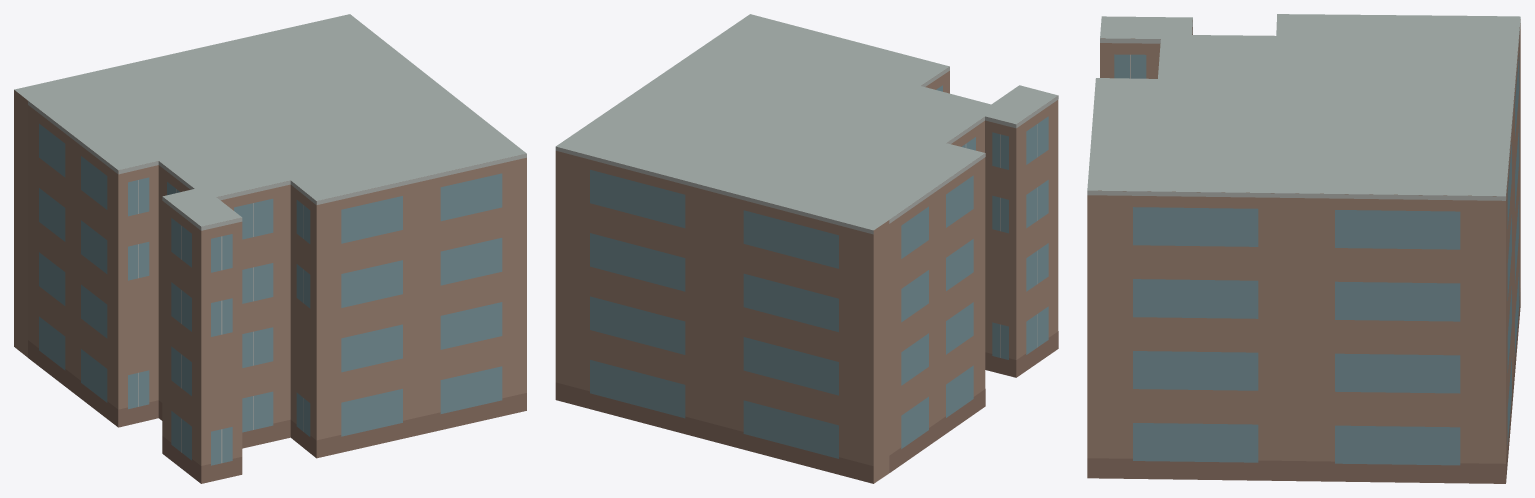
Rendered from survey-upis-32518489.glb.
3 renders of one model, left to right at view 1: azimuth 30°, elevation 25°; view 2: azimuth 150°, elevation 25°; view 3: azimuth 270°, elevation 25°, orthographic. The views are drawn at different scales.
Visible parts, largest first — view 1: survey-upis-32518489.tmp; view 2: survey-upis-32518489.tmp; view 3: survey-upis-32518489.tmp.
Part boxes in pixels (box(x1,y1,x2,y2)): survey-upis-32518489.tmp: box(14, 14, 526, 483); survey-upis-32518489.tmp: box(555, 14, 1058, 483); survey-upis-32518489.tmp: box(1087, 14, 1520, 483).
Bounding box in the file's own units: 20.66 × 15.2 × 20.77.
